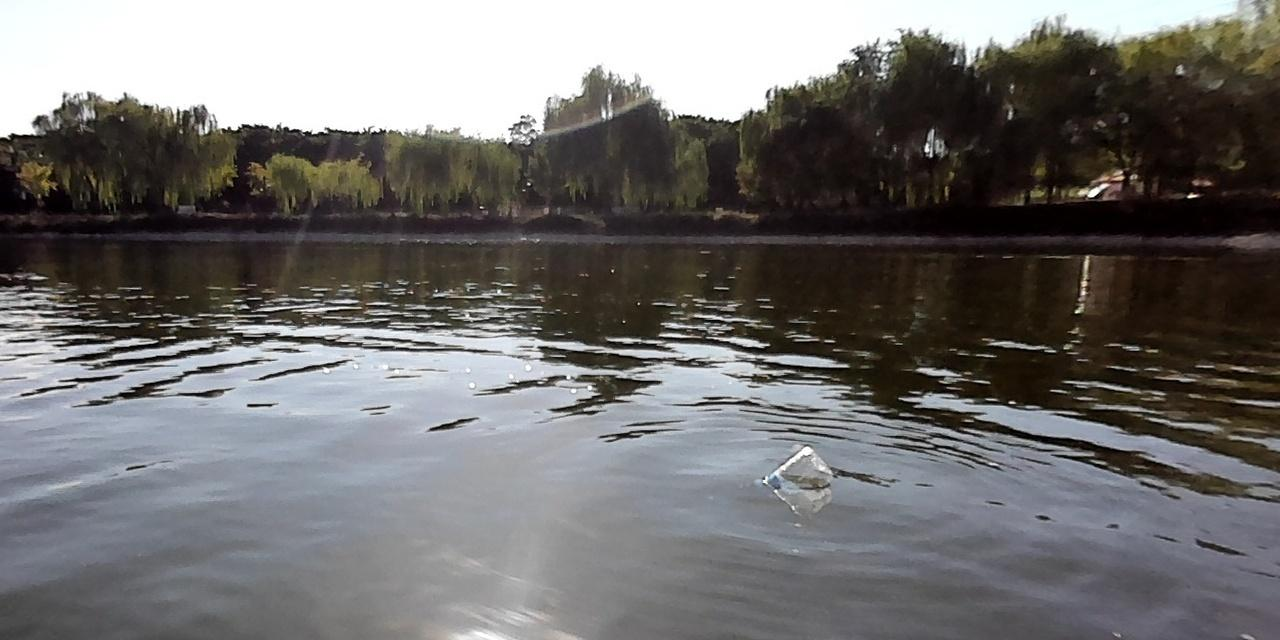bottle: (763, 445, 832, 490)
